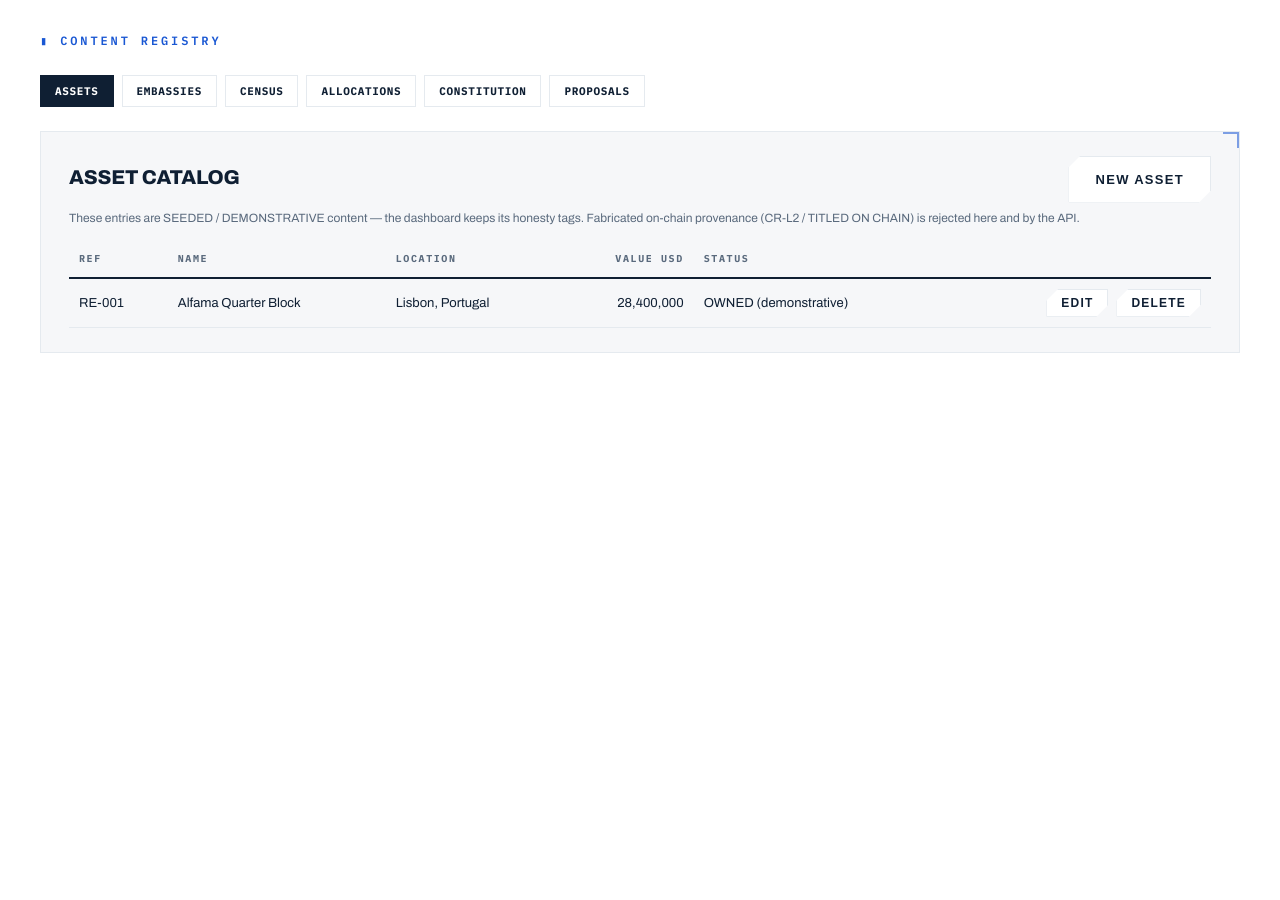
Test: ContentApp › disables the proposal body when descriptionHash is set, keeps it editable when null
Expected: the text "Alfama Quarter Block" is shown, [168,278,386,327]
Click the button "PROPOSALS".
click(597, 91)  # box [550,75,645,107]
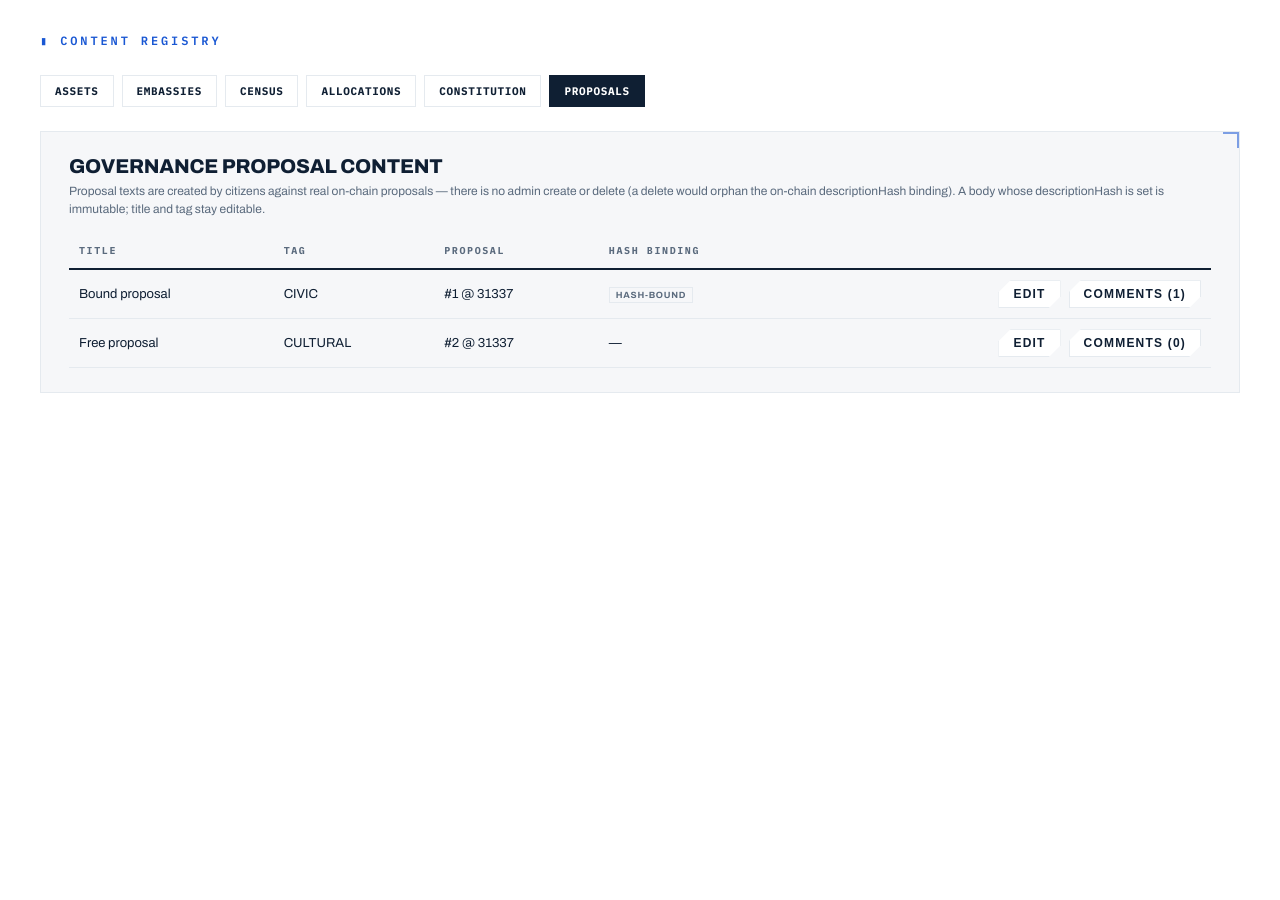
Now the text "Bound proposal" is shown, box [69,269,274,319]
Click the button "Edit" in the row of "Bound proposal".
click(1030, 294)  # box [998,280,1061,308]
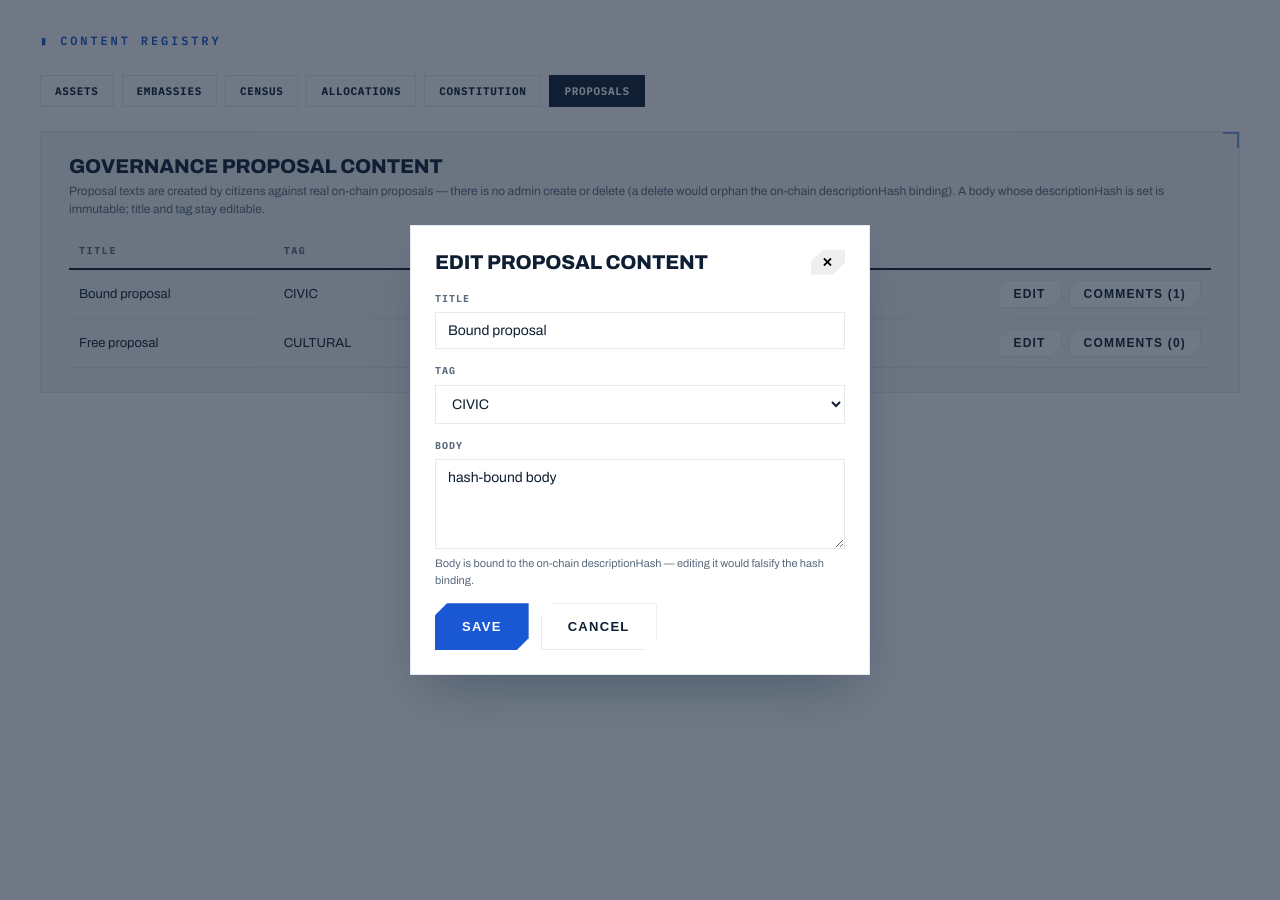
Now the text box labelled "Body" is disabled, box [435,459,845,549]
Now the text "bound to the on-chain descriptionHash" is shown, box [435,557,824,586]
Click the button named "close".
click(828, 262)  # box [811,250,845,275]
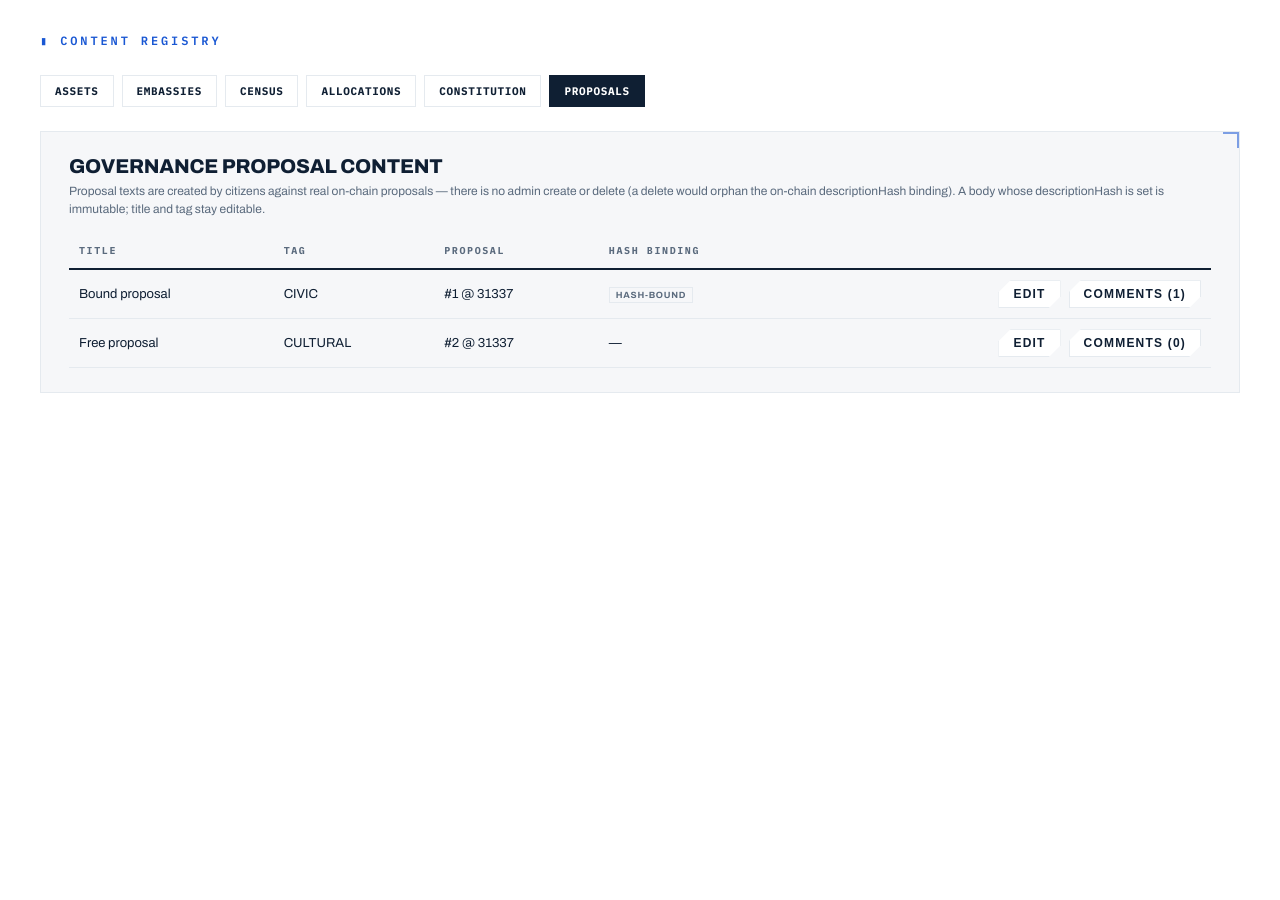
Click the button "Edit" in the row of "Free proposal".
click(1030, 343)  # box [998,329,1061,357]
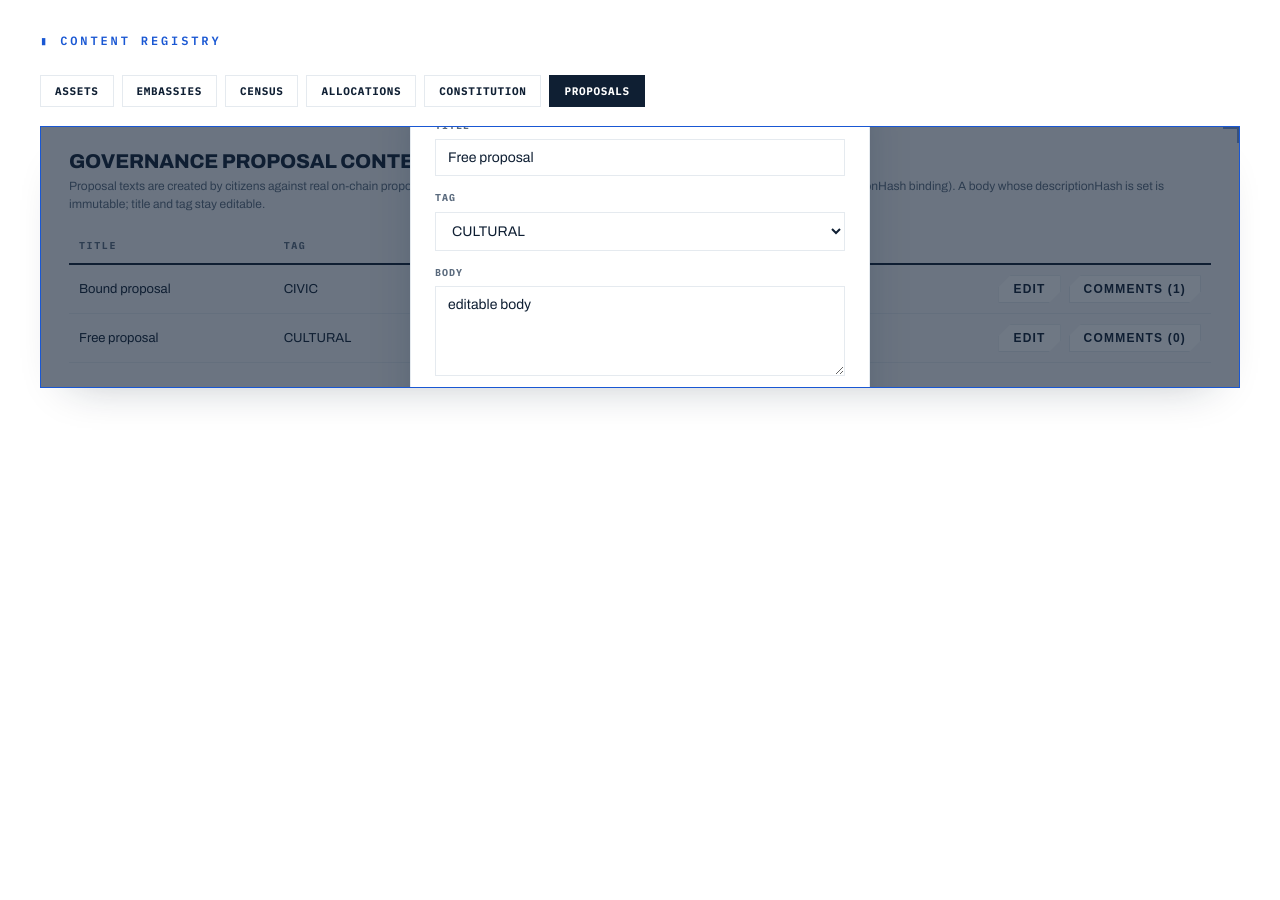
Now the text box labelled "Body" is enabled, box [435,286,845,376]
